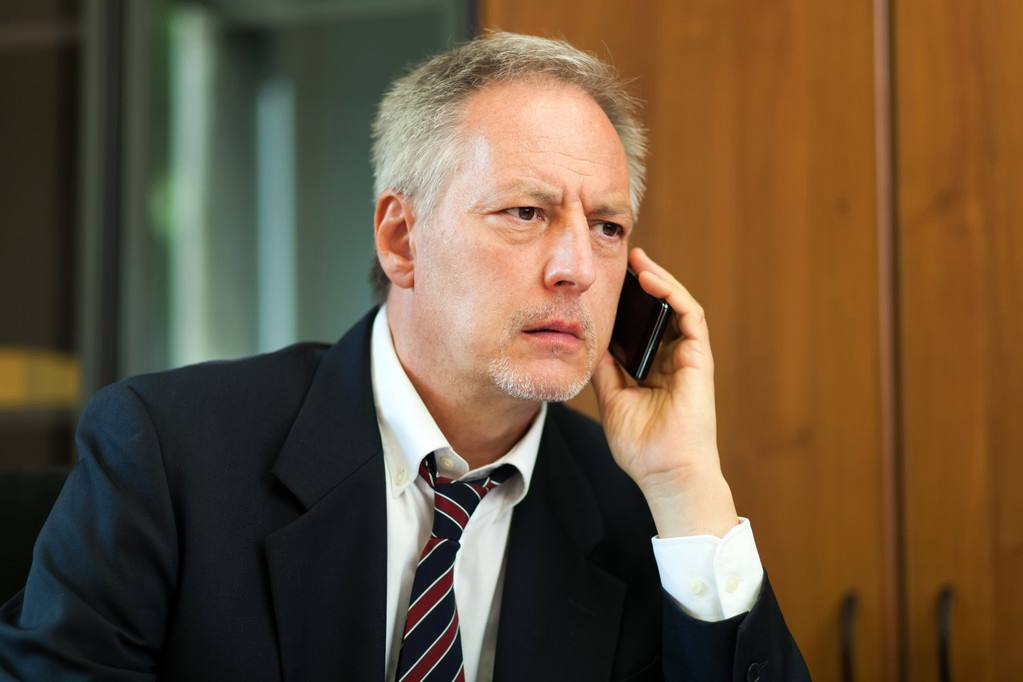calling: (586, 242, 720, 474)
